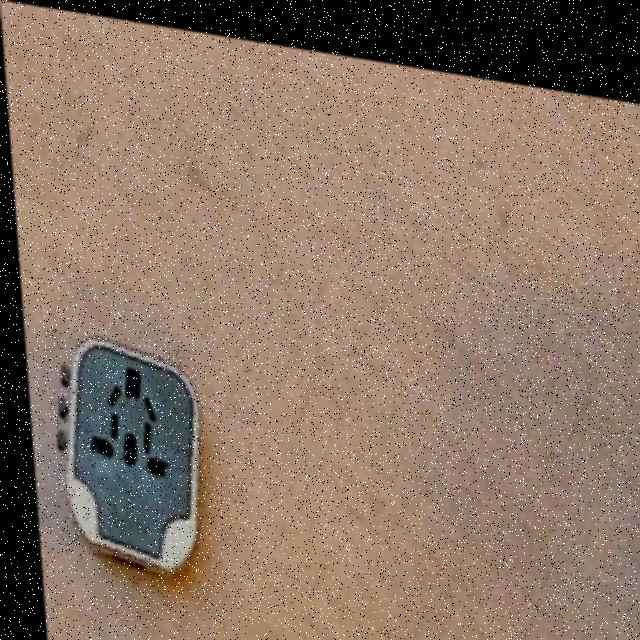adapter: (40, 326, 203, 576)
